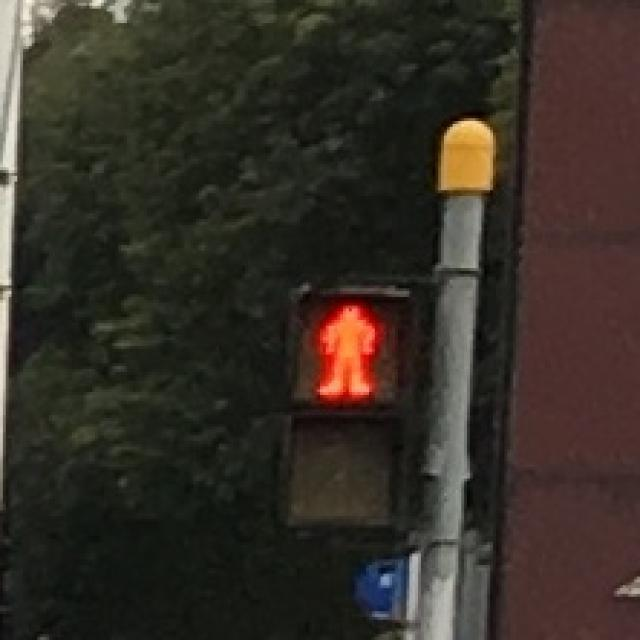red-crossing: (301, 288, 391, 401)
